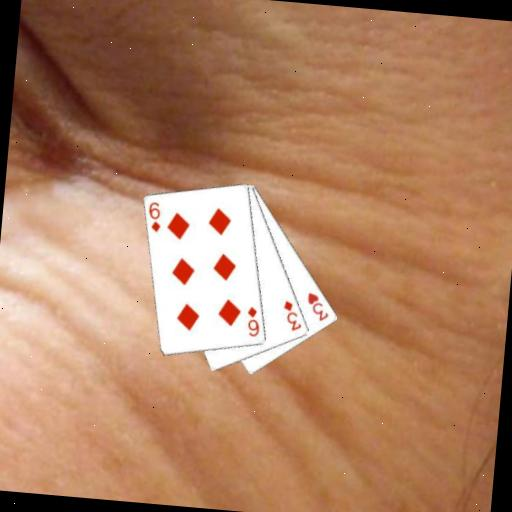3D: (279, 297, 306, 334)
3H: (303, 289, 333, 324)
6D: (243, 303, 264, 339), (144, 199, 165, 234)
